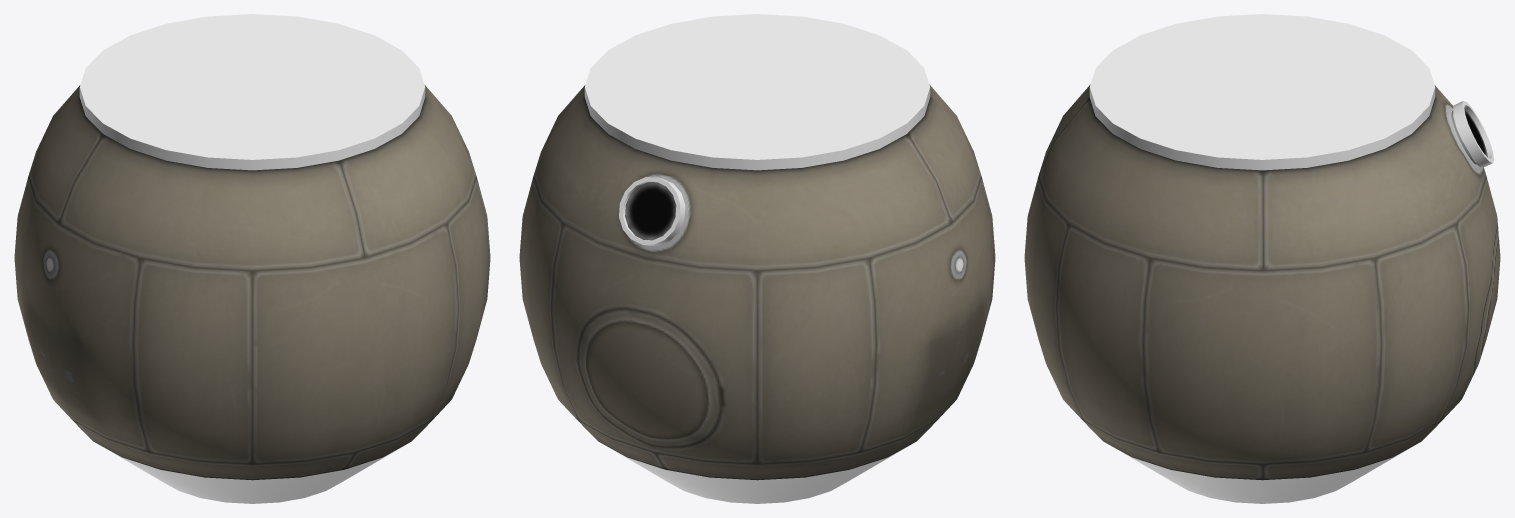
Rendered from Tantares_Habitation_1_Interior.obj.
3 views of the same model, side by side, from view 1: azimuth 30°, elevation 25°; view 2: azimuth 150°, elevation 25°; view 3: azimuth 270°, elevation 25° (orthographic).
Parts seen in each view (by area): view 1: Tantares_Habitation_1, Tantares_Habitation_1_Interior_Mask; view 2: Tantares_Habitation_1, Tantares_Habitation_1_Interior_Mask, Tantares_Habitation_1_Window; view 3: Tantares_Habitation_1, Tantares_Habitation_1_Interior_Mask.
Part boxes in pixels (x1,y1,x2,y2): Tantares_Habitation_1: (14, 85, 490, 480); Tantares_Habitation_1_Interior_Mask: (79, 14, 425, 503); Tantares_Habitation_1: (519, 84, 995, 480); Tantares_Habitation_1_Interior_Mask: (584, 14, 930, 503); Tantares_Habitation_1_Window: (625, 182, 676, 240); Tantares_Habitation_1: (1024, 84, 1500, 480); Tantares_Habitation_1_Interior_Mask: (1089, 14, 1494, 503).
Size of the model in its own units: 1.29 by 1.12 by 1.29.
